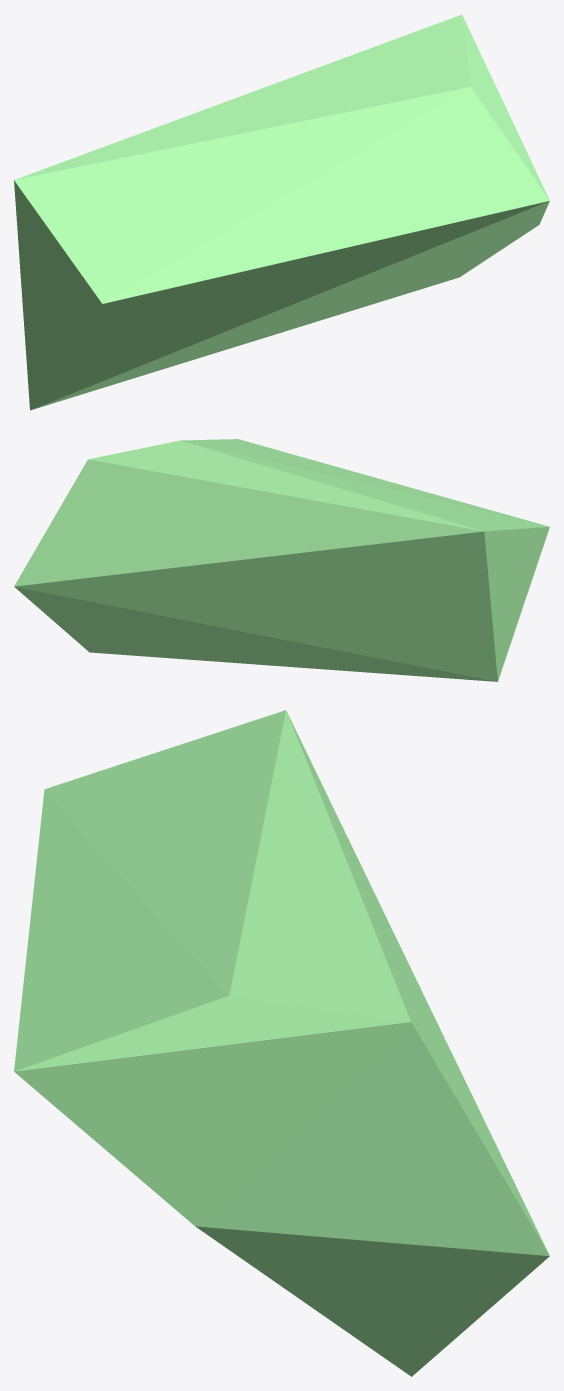
The model's file is xarm7_with_gripper_LR4_R560_link7_respondable_coll_34.dae.
3 views of the same model, one above another, from view 1: azimuth 30°, elevation 25°; view 2: azimuth 150°, elevation 25°; view 3: azimuth 270°, elevation 25° (orthographic). The views are drawn at different scales.
Visible parts, largest first — view 1: Node_000001B88F9DE460; view 2: Node_000001B88F9DE460; view 3: Node_000001B88F9DE460.
Part boxes in pixels (x1=…): Node_000001B88F9DE460: x1=14, y1=14, x2=549, y2=410; Node_000001B88F9DE460: x1=14, y1=439, x2=549, y2=681; Node_000001B88F9DE460: x1=14, y1=710, x2=549, y2=1376.
Bounding box in the file's own units: 0.00998 × 0.00459 × 0.00626.
